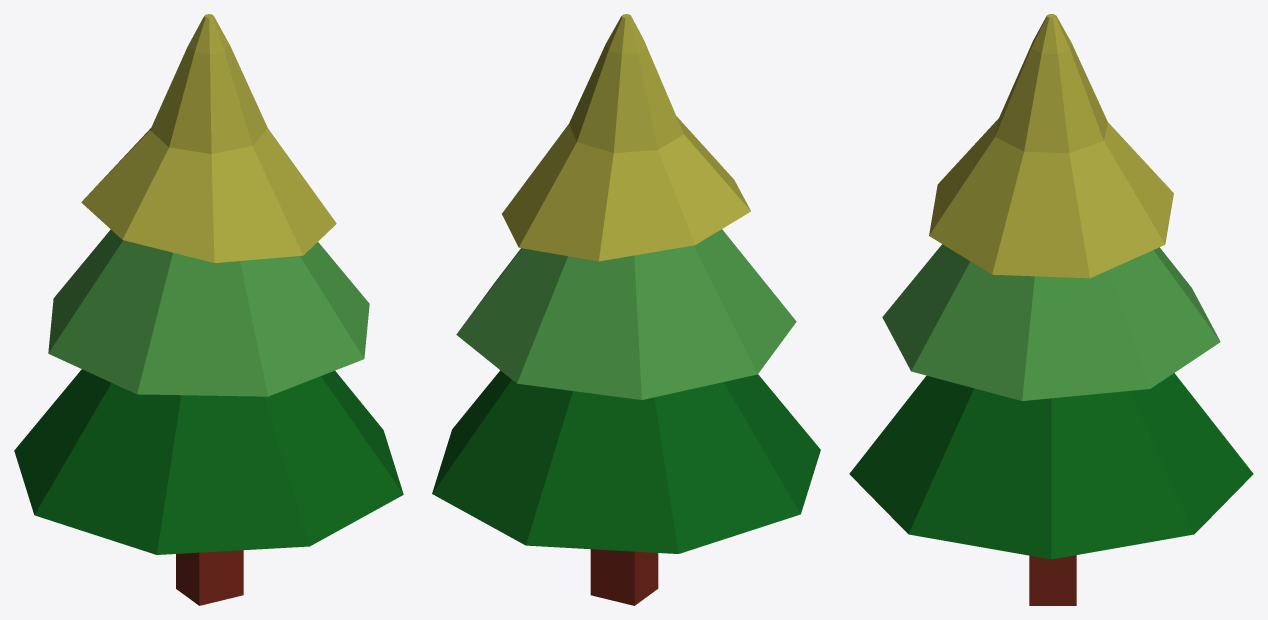
Rendered from tree1.fbx.
3 renders of one model, left to right at view 1: azimuth 30°, elevation 25°; view 2: azimuth 150°, elevation 25°; view 3: azimuth 270°, elevation 25°, orthographic.
Parts seen in each view (by area): view 1: Cube.013; view 2: Cube.013; view 3: Cube.013.
Part boxes in pixels (x1=…): Cube.013: x1=14, y1=14, x2=403, y2=605; Cube.013: x1=432, y1=14, x2=820, y2=605; Cube.013: x1=849, y1=14, x2=1253, y2=605.
Size of the model in its own units: 80.44 by 127 by 80.44.
